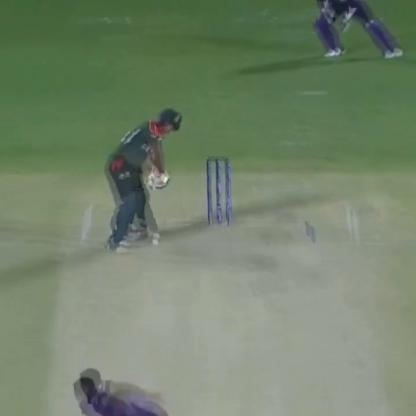ball: (144, 235, 160, 252), (151, 221, 162, 237)
bat: (141, 167, 170, 231)
pitch: (31, 196, 403, 416)
